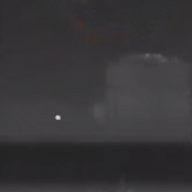Target: (55, 114, 62, 121)
